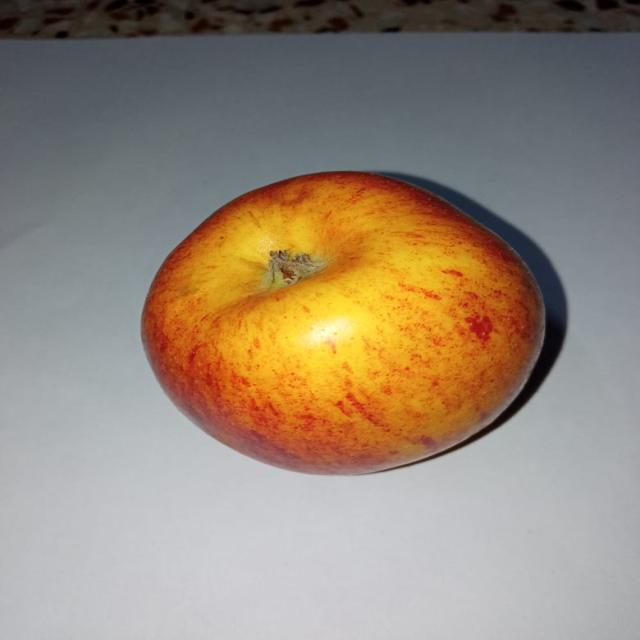fresh_apple: (140, 172, 548, 474)
